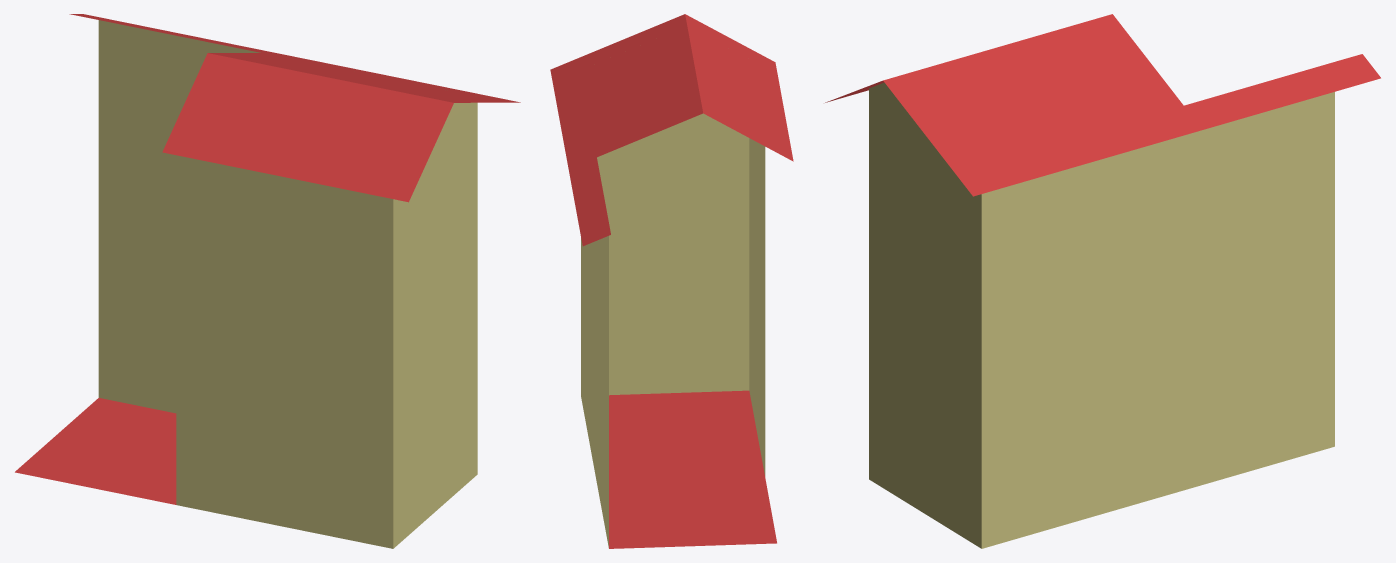
The picture shows the model from 3 angles, left to right: view 1: azimuth 30°, elevation 25°; view 2: azimuth 150°, elevation 25°; view 3: azimuth 270°, elevation 25°; orthographic projection. The views are drawn at different scales.
Size of the model in its own units: 6.75 by 8.33 by 7.11.
